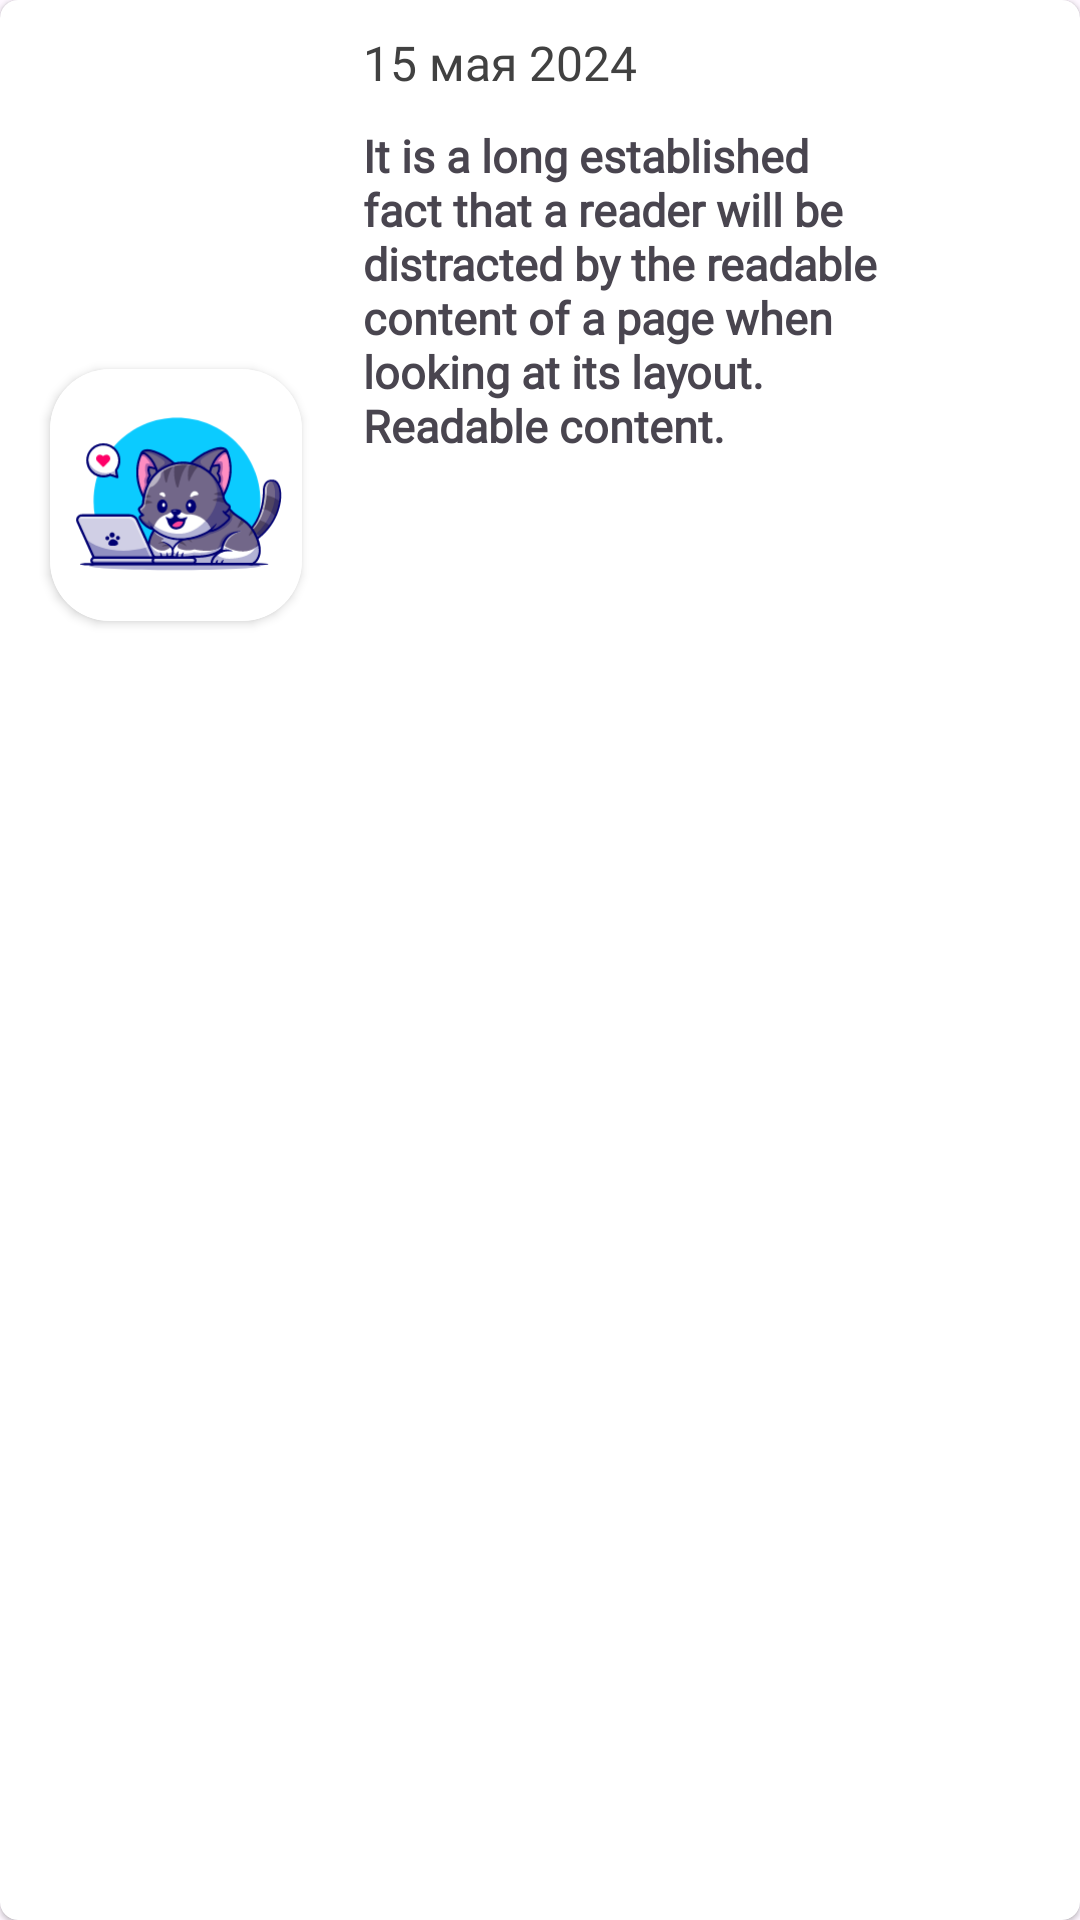

Point at icon controls on the screen. Image size 1080px×1920px, points as (x=x, y=y).
chat user: (x=166, y=517)
